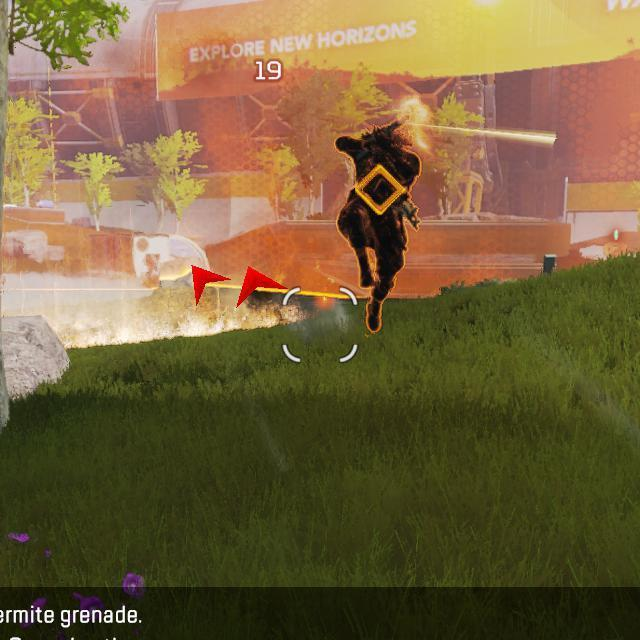avatar: (335, 117, 422, 333)
object: (353, 165, 407, 216)
